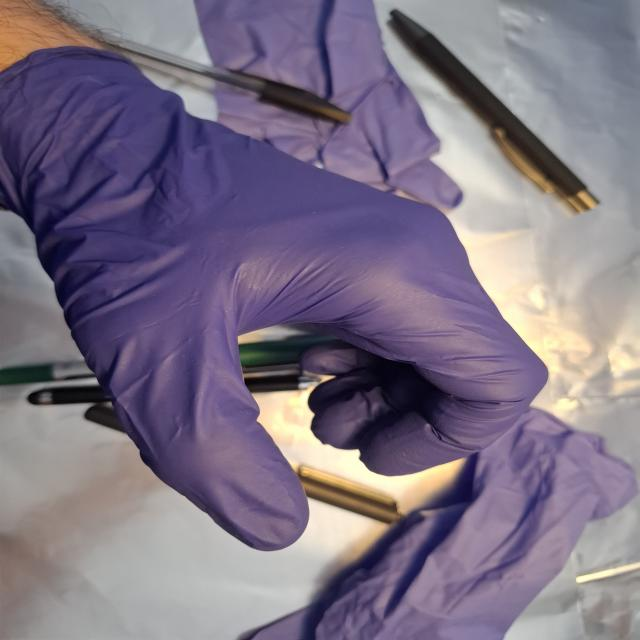glove_on: (0, 43, 552, 554)
